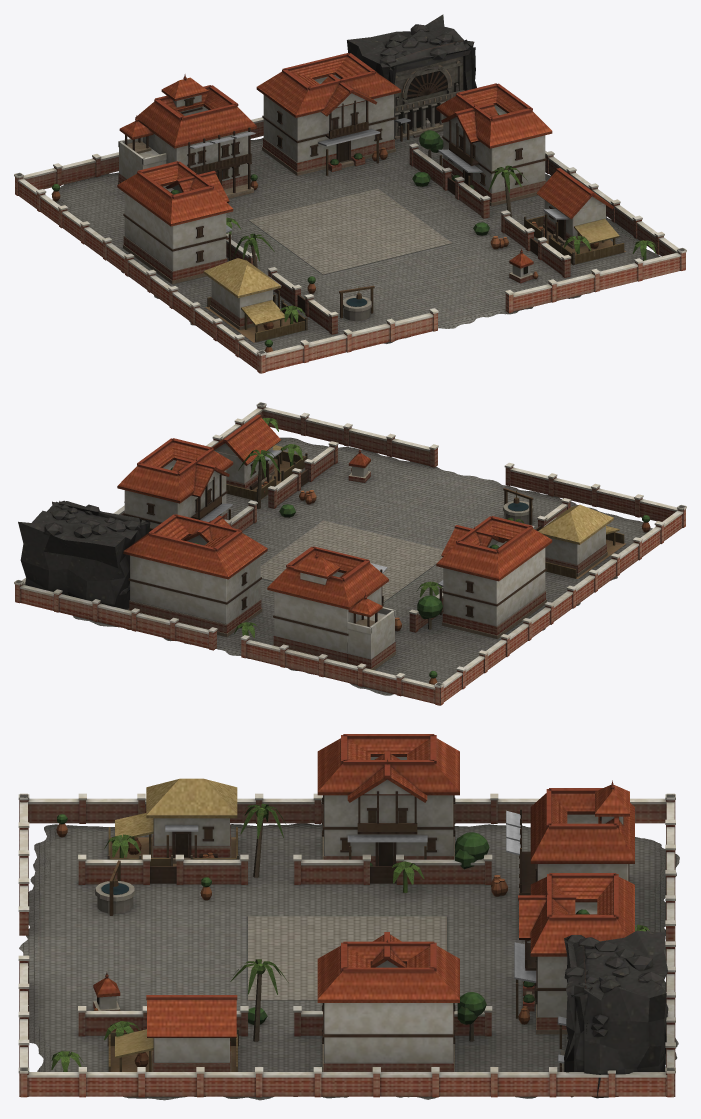
The model's file is classical-town-small-b-indic.glb.
3 renders of one model, top to bottom at view 1: azimuth 30°, elevation 25°; view 2: azimuth 150°, elevation 25°; view 3: azimuth 270°, elevation 25°, orthographic. The views are drawn at different scales.
Parts seen in each view (by area): view 1: LOD0; view 2: LOD0; view 3: LOD0.
Part boxes in pixels (left/top/right/bottom): LOD0: left=14, top=14, right=686, bottom=373; LOD0: left=14, top=402, right=686, bottom=705; LOD0: left=18, top=734, right=679, bottom=1100.
Size of what is drawn, in the model's own units: 4.02 by 0.934 by 4.06.
Materials: 3 (3 with a texture image).
